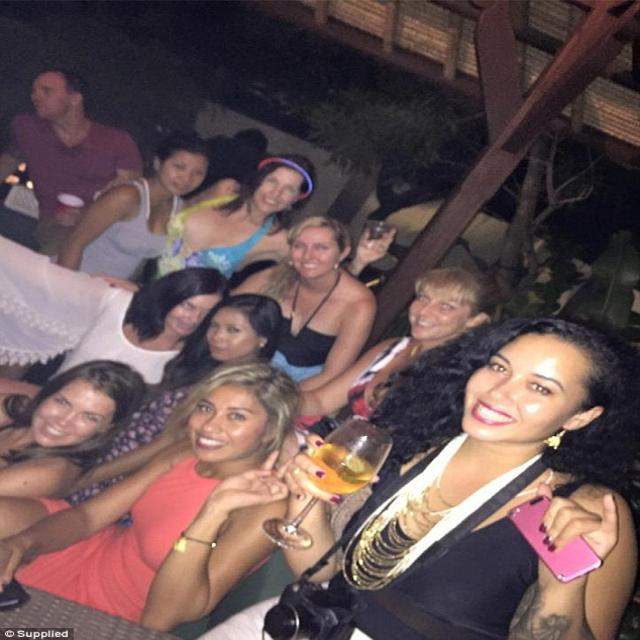body: (192, 313, 640, 640), (0, 357, 325, 639), (0, 293, 287, 527), (292, 264, 500, 451), (145, 149, 400, 293), (0, 234, 229, 386), (0, 67, 145, 255), (226, 213, 378, 392), (55, 140, 219, 283), (0, 357, 152, 499)
